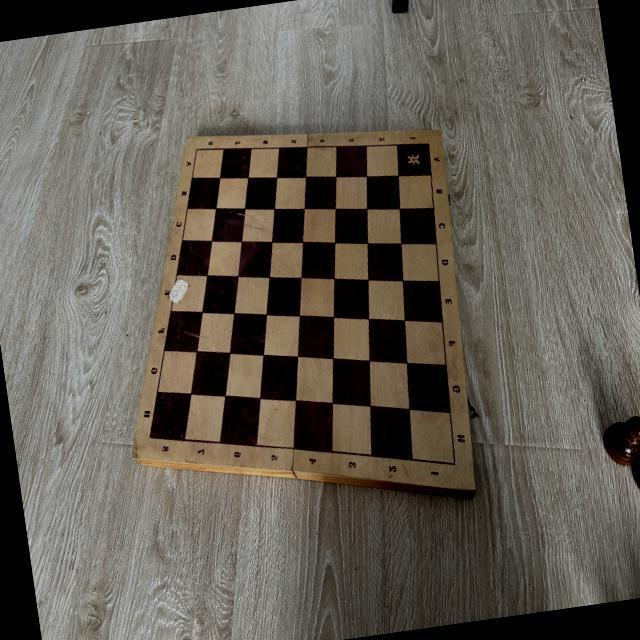chess-table-corners: (144, 431, 156, 444), (450, 458, 460, 470), (193, 144, 201, 154), (425, 139, 432, 148)
